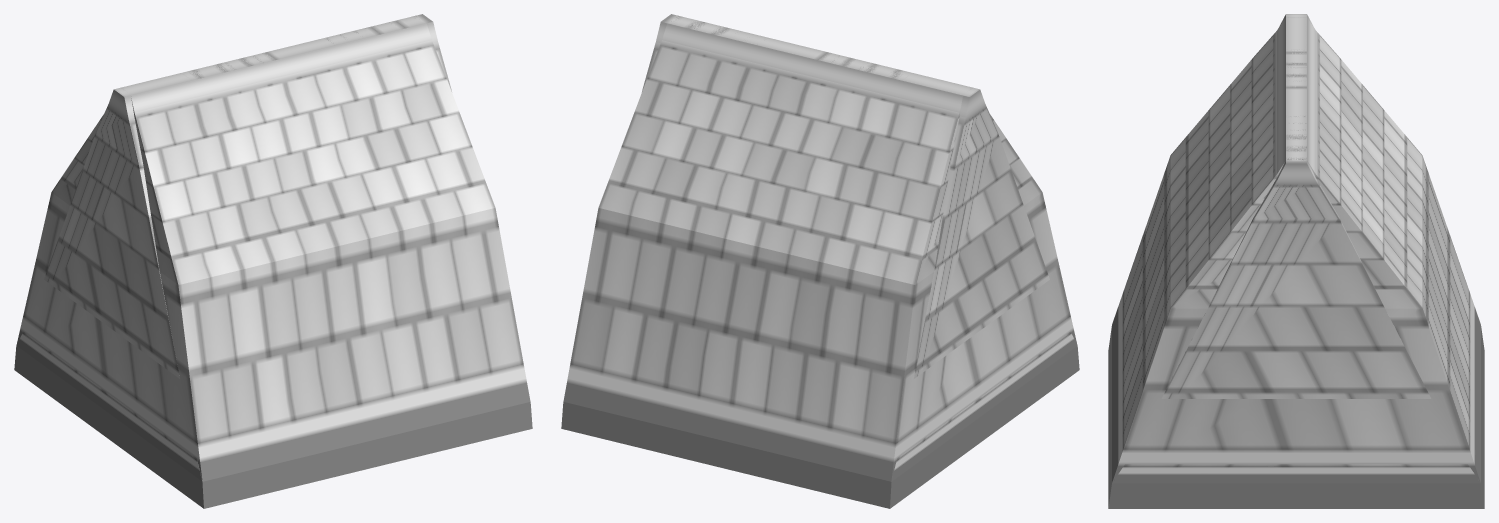
The model's file is plaza-roofs.glb.
The picture shows the model from 3 angles, left to right: view 1: azimuth 30°, elevation 25°; view 2: azimuth 150°, elevation 25°; view 3: azimuth 270°, elevation 25°; orthographic projection.
Visible parts, largest first — view 1: Gambrel, Gable, Hipped; view 2: Gambrel, Gable, Hipped; view 3: Gambrel, Gable, Hipped.
Part boxes in pixels (x1,y1,x2,y2): Gambrel: (16, 15, 532, 508); Gable: (14, 14, 532, 508); Hipped: (183, 31, 532, 506); Gambrel: (561, 15, 1077, 508); Gable: (561, 14, 1079, 508); Hipped: (562, 31, 911, 507); Gambrel: (1108, 17, 1484, 505); Gable: (1108, 14, 1484, 508); Hipped: (1108, 47, 1484, 505).
Bounding box in the file's own units: 1 × 1 × 1.
Materials: 1 (1 with a texture image).
